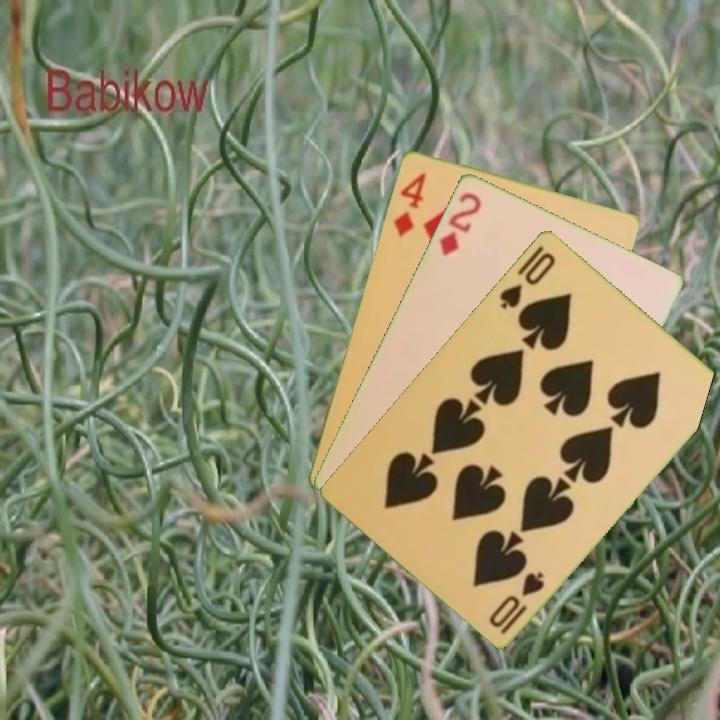10s: (485, 567, 547, 637), (496, 248, 559, 312)
2d: (435, 188, 484, 258)
4d: (390, 168, 429, 240)
